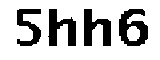5: (12, 4, 44, 50)
6: (115, 4, 151, 49)
h: (81, 4, 114, 54), (45, 5, 79, 53)
